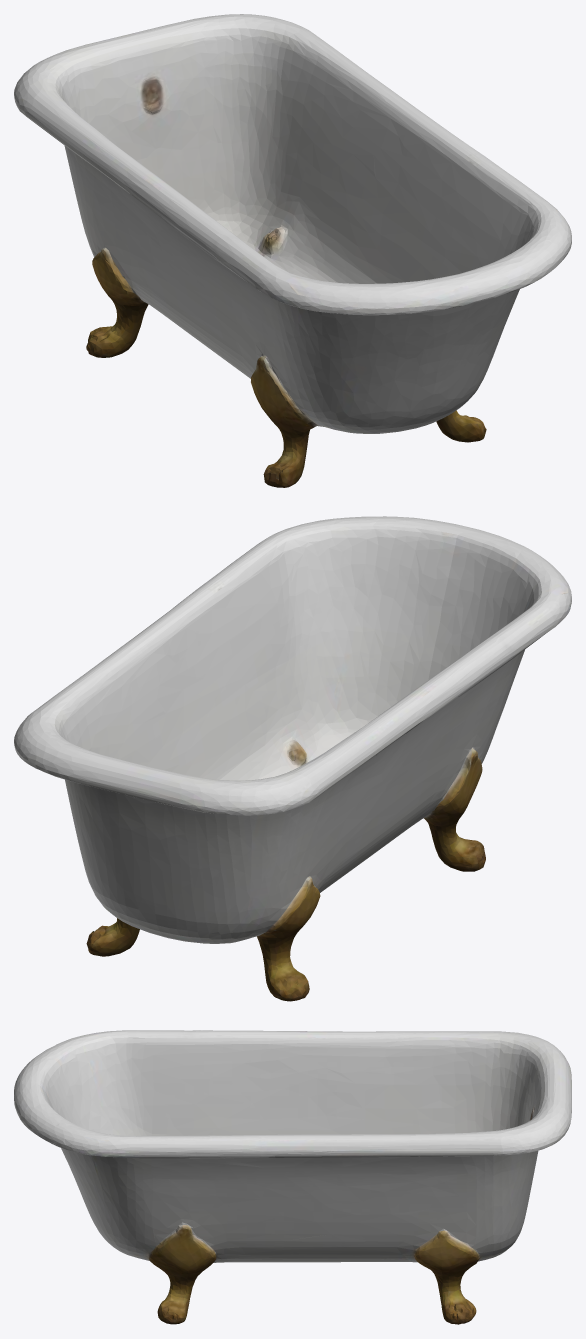
Rendered from bathtub.glb.
The picture shows the model from 3 angles, top to bottom: view 1: azimuth 30°, elevation 25°; view 2: azimuth 150°, elevation 25°; view 3: azimuth 270°, elevation 25°; orthographic projection. The views are drawn at different scales.
Parts seen in each view (by area): view 1: geometry_0; view 2: geometry_0; view 3: geometry_0.
Boxes of the visible parts, x1,y1,x2,y2 form: geometry_0: (14, 14, 571, 487); geometry_0: (14, 516, 571, 1001); geometry_0: (14, 1030, 571, 1324).
Size of the model in its own units: 0.4942 by 0.4006 by 0.9993.
1 material, 1 textured.
